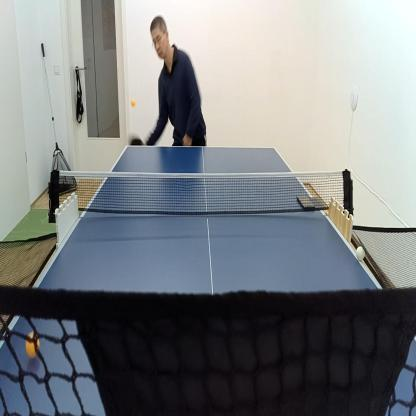Ball: (25, 331, 40, 357), (356, 246, 364, 261), (131, 100, 137, 108)
